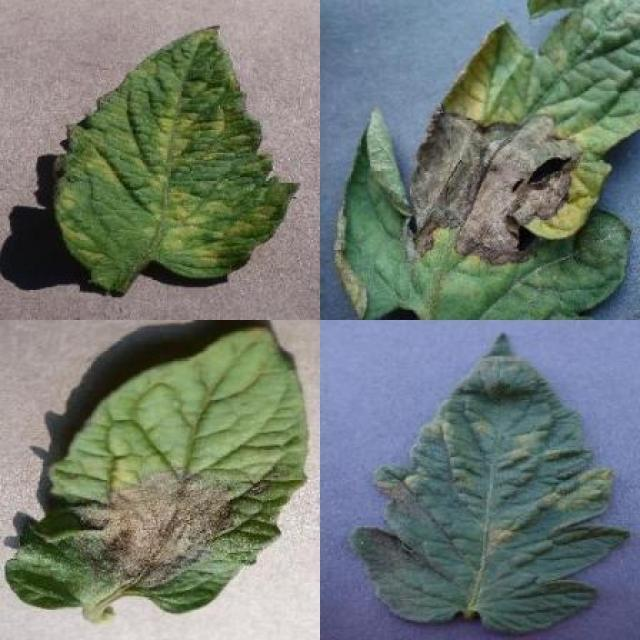Late Blight: (330, 0, 640, 320), (7, 326, 310, 616)
Leaf Mold: (348, 332, 632, 638), (55, 25, 298, 294)
